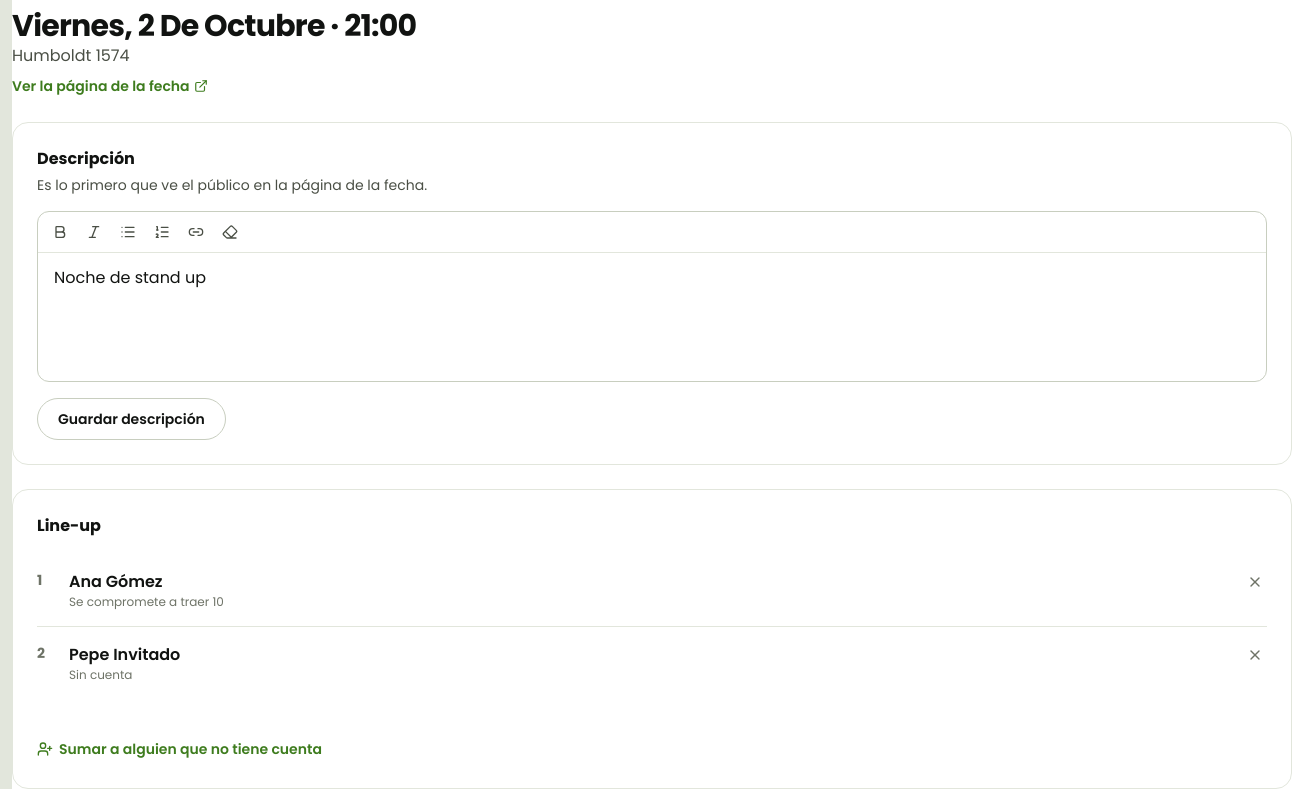
Scenario: Show (armado) › alguien sin cuenta › sin nombre no se puede sumar
The image size is (1292, 789).
(page scrolled)
Expected: the heading "Line-up" is shown, [37,514,101,537]
Click the button "Sumar a alguien que no tiene cuenta": (179, 749) [37,739,322,759]
(page scrolled)
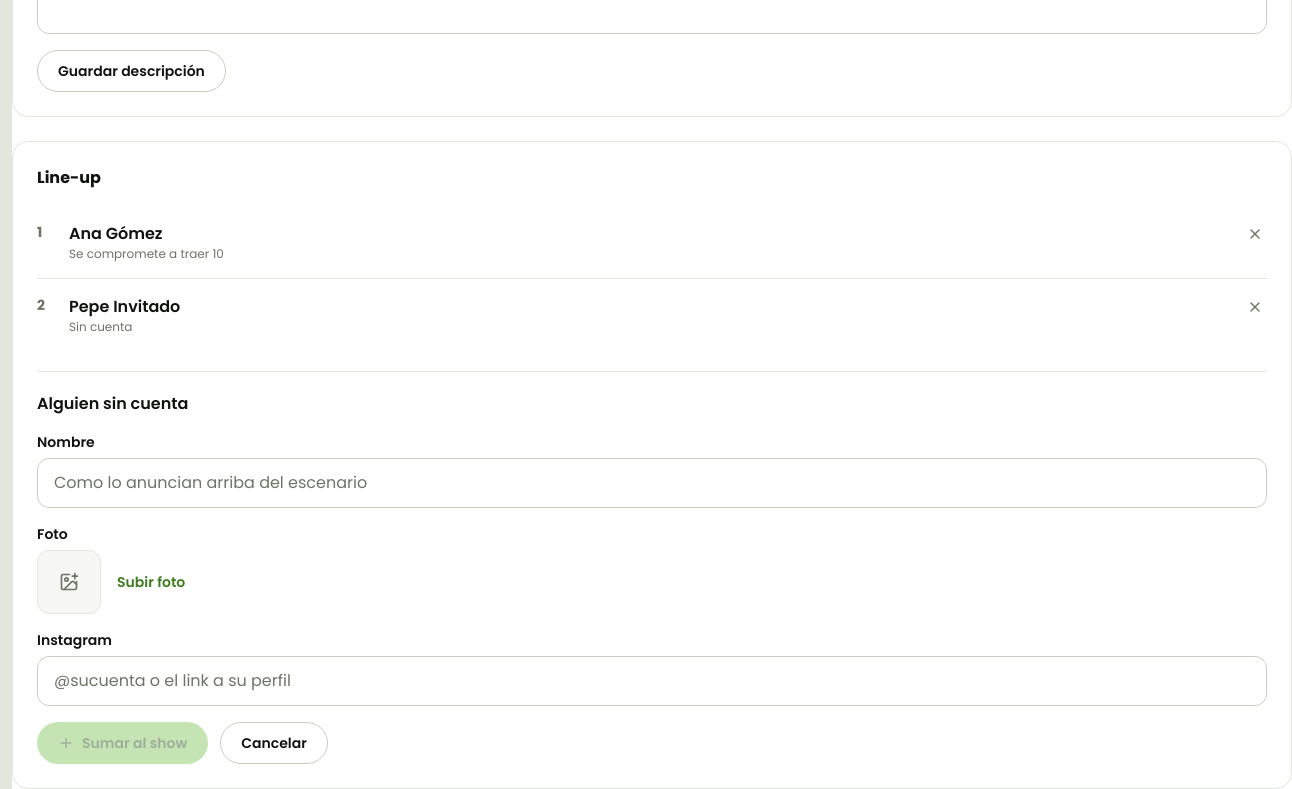
Expected: the button "Sumar al show" is disabled, [37,722,208,764]
